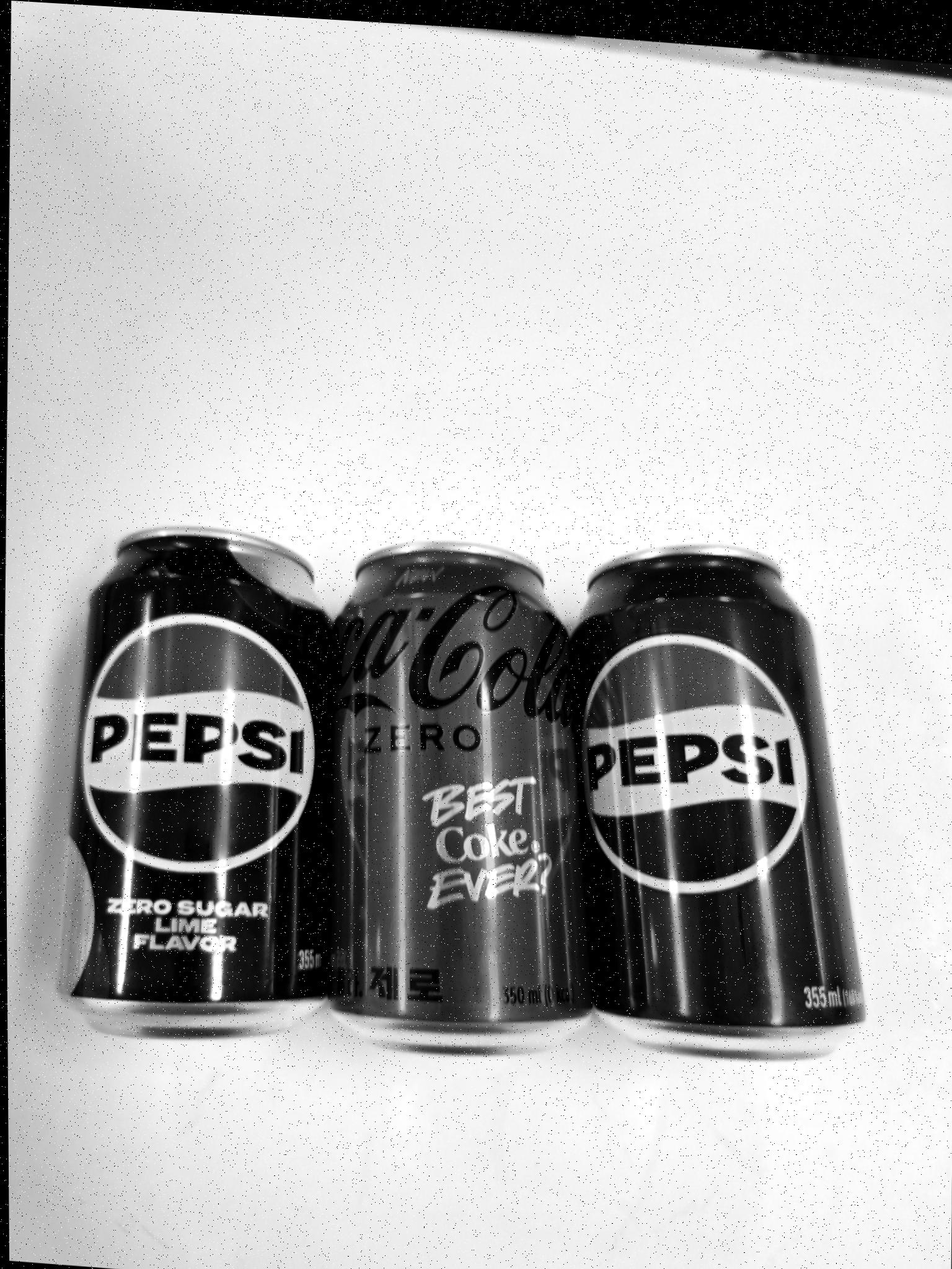can_coke_zero: (323, 539, 591, 1058)
can_pepsi: (568, 547, 868, 1056)
can_pepsi_zero: (55, 531, 334, 1042)
